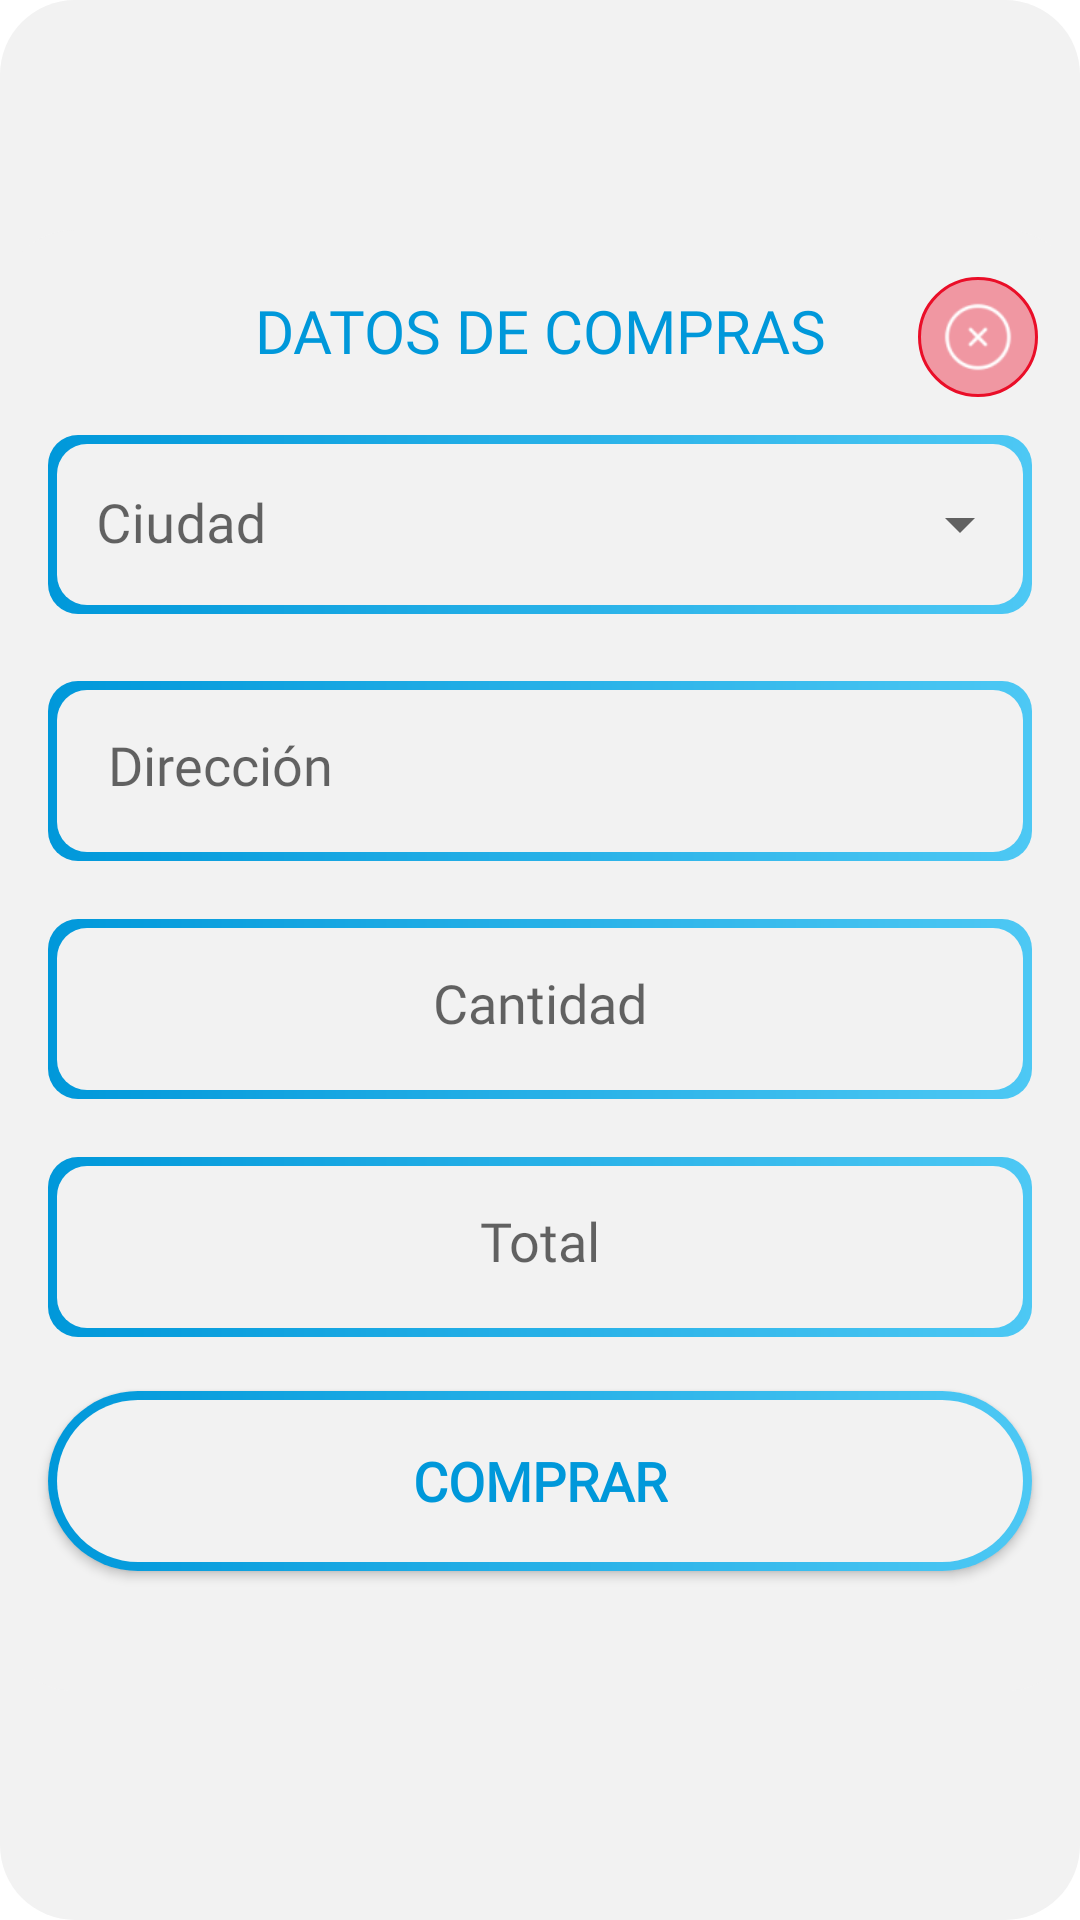

Icon click points for this 1080w x 1920h phone screenshot, format (x=x, y=y):
close: (x=978, y=337)
